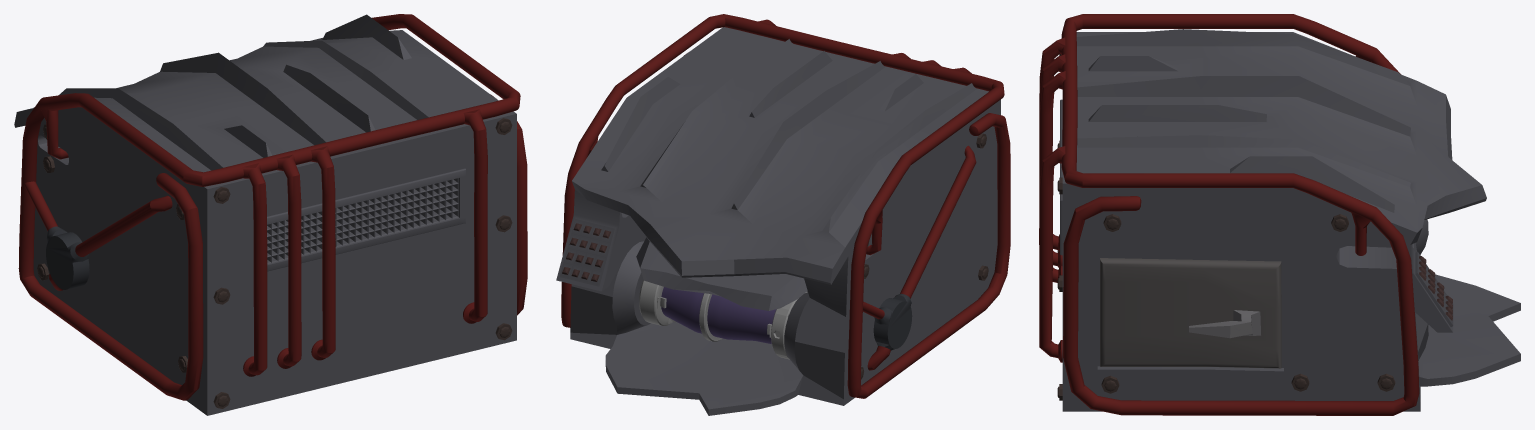
Rendered from rift_distiller.fbx.
3 views of the same model, side by side, from view 1: azimuth 30°, elevation 25°; view 2: azimuth 150°, elevation 25°; view 3: azimuth 270°, elevation 25° (orthographic). The views are drawn at different scales.
Visible parts, largest first — view 1: Cube, Cylinder.003, Cylinder.002; view 2: Cube, Cylinder.003, Portal_Essence, Cylinder.002; view 3: Cube, Cylinder.003.
Part boxes in pixels (x1,y1,x2,y2): Cube: (14,14,516,415); Cylinder.003: (18,14,527,400); Cylinder.002: (24,181,172,290); Cube: (556,27,1000,415); Cylinder.003: (561,14,1010,398); Portal_Essence: (639,279,807,359); Cylinder.002: (863,145,976,370); Cube: (1060,29,1520,411); Cylinder.003: (1039,14,1419,415).
Size of the model in its own units: 1013 by 683 by 1206.
